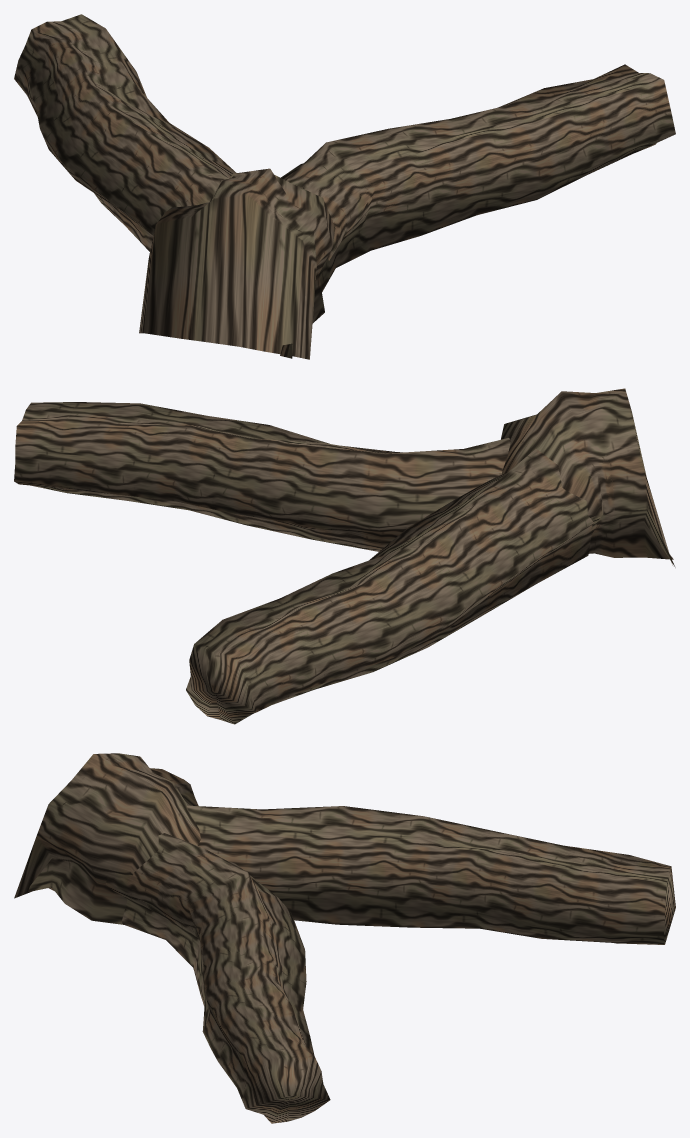
The model's file is fallen-b.lod0.glb.
3 views of the same model, one above another, from view 1: azimuth 30°, elevation 25°; view 2: azimuth 150°, elevation 25°; view 3: azimuth 270°, elevation 25° (orthographic). The views are drawn at different scales.
Parts seen in each view (by area): view 1: bark; view 2: bark; view 3: bark.
Boxes of the visible parts, bbox=[...] form: bark: bbox=[14, 14, 675, 359]; bark: bbox=[14, 388, 675, 724]; bark: bbox=[14, 753, 675, 1123].
Size of the model in its own units: 3.6 by 0.8271 by 3.66.
Materials: 1 (1 with a texture image).
